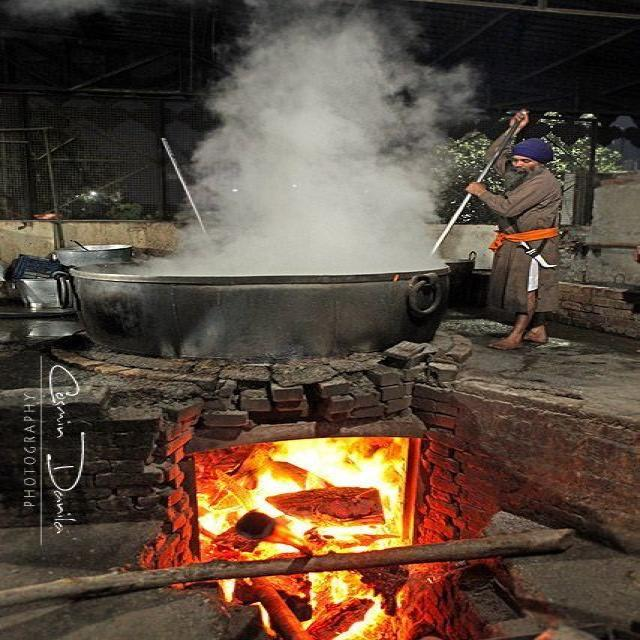fire: (272, 438, 409, 488), (198, 494, 247, 535), (331, 610, 387, 640)
